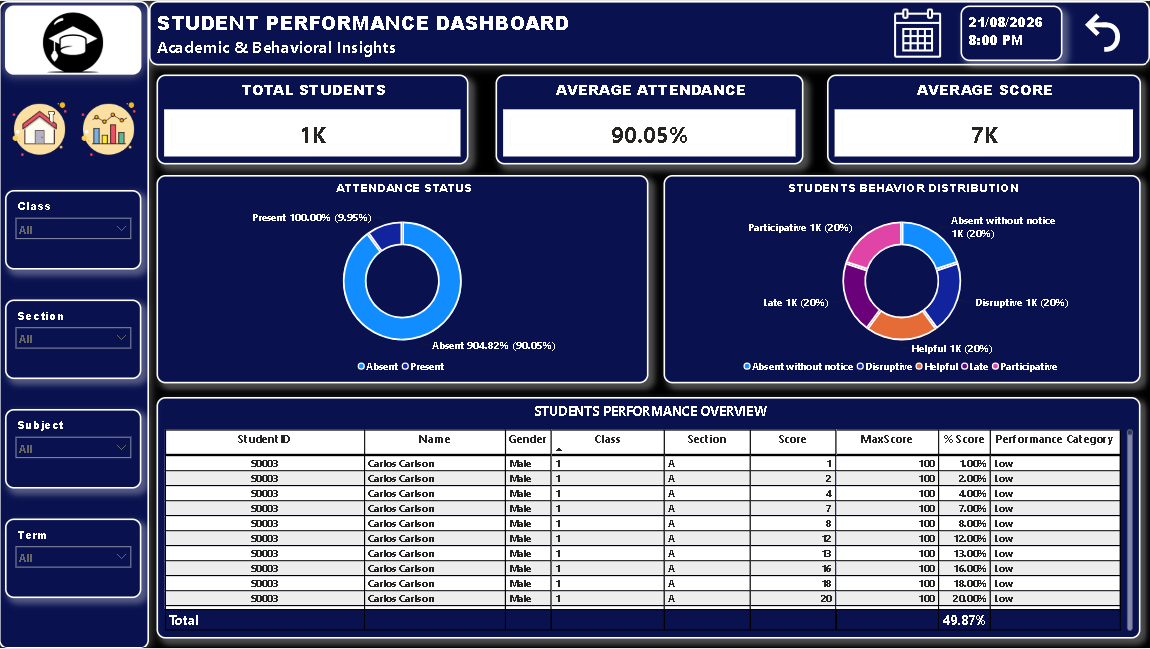

Layout of this report page (visuals, bound fields, positions):
{"tool":"powerbi","page":{"name":"STUDENTS ATTENDANCE & BEHAVIOR","canvas":[1920,1080],"ordinal":1},"visuals":[{"type":"tableEx","title":"STUDENTS PERFORMANCE OVERVIEW","fields":{"Values":["Scores_data.StudentID","Students_data.Name","Students_data.Gender","Students_data.Class","Students_data.Section","Scores_data.Score","Scores_data.MaxScore","All Measures.% Score","Scores_data.Performance Category"]},"box":[262.5,660,1640,402.5],"z":0},{"type":"textbox","box":[0,0,250,1080],"z":1000},{"type":"textbox","box":[250,0,1670,107.5],"z":2000},{"type":"image","box":[10,7.5,227.5,115],"z":3000},{"type":"cardVisual","title":"TOTAL STUDENTS","fields":{"Data":["All Measures.Total Students"]},"box":[263.3,123.3,520,150],"z":4000},{"type":"cardVisual","title":"AVERAGE ATTENDANCE","fields":{"Data":["All Measures.Average Attendance"]},"box":[826.7,123.3,513.3,150],"z":5000},{"type":"cardVisual","title":"AVERAGE SCORE","fields":{"Data":["All Measures.Behavior Count per Type"]},"box":[1380,123.3,523.3,150],"z":6000},{"type":"donutChart","title":"ATTENDANCE STATUS","fields":{"Category":["Attendance_data.Status"],"Y":["All Measures.Attendance %"]},"box":[262.5,290,820,347.5],"z":7000},{"type":"donutChart","title":"STUDENTS BEHAVIOR DISTRIBUTION","fields":{"Category":["Behavior_data.BehaviorType"],"Y":["All Measures.Total Students"]},"box":[1107.5,290,795,347.5],"z":8000},{"type":"slicer","fields":{"Values":["Scores_data.Term"]},"box":[10,862.5,227.5,132.5],"z":9000},{"type":"slicer","fields":{"Values":["Scores_data.Subject"]},"box":[10,680,227.5,132.5],"z":10000},{"type":"slicer","fields":{"Values":["Students_data.Section"]},"box":[10,497.5,227.5,132.5],"z":11000},{"type":"slicer","fields":{"Values":["Students_data.Class"]},"box":[10,315,227.5,132.5],"z":12000},{"type":"actionButton","box":[1802.5,15,77.5,75],"z":12001},{"type":"textbox","box":[1602.5,7.5,170,92.5],"z":12002},{"type":"image","box":[1482.5,12.5,97.5,85],"z":12003},{"type":"image","box":[10,155,115,117.5],"z":12004},{"type":"image","box":[125,155,115,117.5],"z":12005}]}

Visuals, with their boxes in screenshot pixels (x1, y1, x2, y2), scaled from the page's 1920x1080 canvas onto the 1150x649 screenshot:
"STUDENTS PERFORMANCE OVERVIEW" tableEx: <box>157,397,1140,638</box>
textbox: <box>0,0,150,648</box>
textbox: <box>150,0,1149,65</box>
image: <box>6,5,142,74</box>
"TOTAL STUDENTS" cardVisual: <box>158,74,469,164</box>
"AVERAGE ATTENDANCE" cardVisual: <box>495,74,803,164</box>
"AVERAGE SCORE" cardVisual: <box>827,74,1140,164</box>
"ATTENDANCE STATUS" donutChart: <box>157,174,648,383</box>
"STUDENTS BEHAVIOR DISTRIBUTION" donutChart: <box>663,174,1140,383</box>
slicer - Scores_data.Term: <box>6,518,142,598</box>
slicer - Scores_data.Subject: <box>6,409,142,488</box>
slicer - Students_data.Section: <box>6,299,142,379</box>
slicer - Students_data.Class: <box>6,189,142,269</box>
actionButton: <box>1080,9,1126,54</box>
textbox: <box>960,5,1062,60</box>
image: <box>888,8,946,59</box>
image: <box>6,93,75,164</box>
image: <box>75,93,144,164</box>
